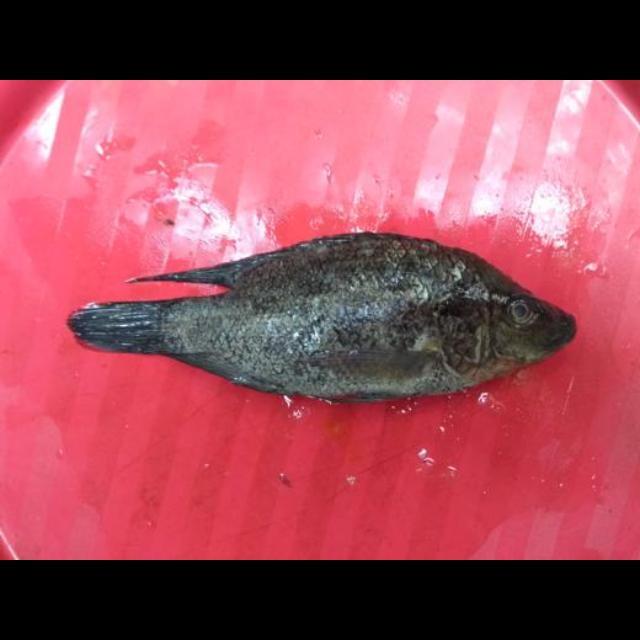Tilapia: (67, 231, 578, 403)
